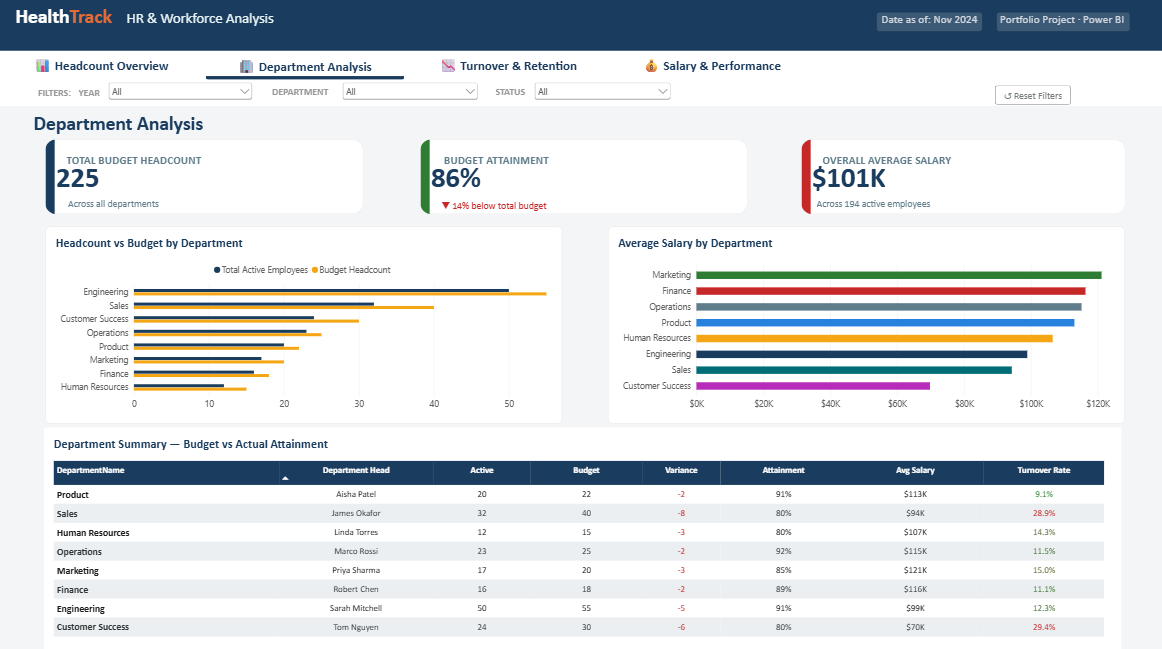

The dashboard page shown, as its layout file describes it:
{"tool":"powerbi","page":{"name":"🏢 Department Analysis","canvas":[1920,1080],"ordinal":1},"visuals":[{"type":"textbox","box":[32.5,17.8,345.9,47.7],"z":0,"group":"g16"},{"type":"shape","box":[0,92.5,1920,90],"z":0},{"type":"group","id":"g1","title":"Group 3","box":[132.6,140,974.9,44.5],"z":0,"group":"g15"},{"type":"group","id":"g2","title":"Group 1","box":[132.6,140.4,289.7,43.6],"z":0,"group":"g1"},{"type":"textbox","box":[214.6,24.6,410.4,43.2],"z":1000,"group":"g16"},{"type":"slicer","fields":{"Values":["DimEmployee.EmploymentStatus"]},"box":[875.1,140,232.4,44.5],"z":1000,"group":"g5"},{"type":"slicer","fields":{"Values":["DimDate.Year"]},"box":[177.1,140.4,245.3,43.6],"z":1000,"group":"g2"},{"type":"group","id":"g3","title":"Group 2","box":[448.5,140.4,340.9,43.6],"z":1000,"group":"g1"},{"type":"slicer","fields":{"Values":["DimDepartment.DepartmentName"]},"box":[558.1,140.4,231.3,43.6],"z":1000,"group":"g3"},{"type":"textbox","box":[67.5,152.3,82,40.2],"z":1000,"group":"g15"},{"type":"group","id":"g4","title":"Group 6","box":[695,237.5,552.5,122.5],"z":1000},{"type":"group","id":"g5","title":"Group 2","box":[815.6,140,291.9,44.5],"z":2000,"group":"g1"},{"type":"textbox","box":[62.5,192.5,322.5,42.5],"z":2000},{"type":"textbox","box":[815.6,149.6,108,32.7],"z":3000,"group":"g5"},{"type":"textbox","box":[448.5,150,108,32.7],"z":3000,"group":"g3"},{"type":"textbox","box":[132.6,152.8,55.3,31.1],"z":3000,"group":"g2"},{"type":"group","id":"g6","title":"Group 9","box":[80,237.5,545,122.5],"z":3000},{"type":"shape","box":[0,7.5,1920,85],"z":4000},{"type":"group","id":"g7","title":"Group 7","box":[80,237.5,520.8,122.5],"z":4000,"group":"g11"},{"type":"group","id":"g8","title":"Group 7","box":[695,237.5,535.6,122.5],"z":4000,"group":"g12"},{"type":"group","id":"g9","title":"Group 7","box":[1317.5,237.5,530,122.5],"z":4000,"group":"g14"},{"type":"group","id":"g10","title":"Group 9","box":[1317.5,237.5,530,122.5],"z":5000},{"type":"textbox","box":[114.2,258.5,478.3,97],"z":5000,"group":"g11"},{"type":"textbox","box":[730.1,258.5,491.9,97],"z":5000,"group":"g12"},{"type":"textbox","box":[1352.3,258.5,486.7,97],"z":5000,"group":"g14"},{"type":"group","id":"g11","title":"Group 8","box":[80,237.5,520.8,122.5],"z":5001,"group":"g6"},{"type":"group","id":"g12","title":"Group 8","box":[695,237.5,535.6,122.5],"z":5001,"group":"g13"},{"type":"group","id":"g13","title":"Group 9","box":[695,237.5,552.5,122.5],"z":5001,"group":"g4"},{"type":"group","id":"g14","title":"Group 8","box":[1317.5,237.5,530,122.5],"z":5001,"group":"g10"},{"type":"group","id":"g15","title":"Group 4","box":[67.5,140,1040,52.5],"z":6000},{"type":"cardVisual","fields":{"Data":["Measure.Budget Headcount"]},"box":[80,237.5,520.8,122.5],"z":6000,"group":"g7"},{"type":"cardVisual","fields":{"Data":["Measure.Headcount Attainment %"]},"box":[695,237.5,535.6,122.5],"z":6000,"group":"g8"},{"type":"cardVisual","fields":{"Data":["Measure.Avg Salary"]},"box":[1317.5,237.5,530,122.5],"z":6000,"group":"g9"},{"type":"textbox","box":[1342.7,332.3,402.8,21.5],"z":6000,"group":"g10"},{"type":"textbox","box":[115.9,333.1,509.5,21.5],"z":6000,"group":"g6"},{"type":"textbox","box":[729.1,333.7,518.4,21.7],"z":6000,"group":"g13"},{"type":"group","id":"g16","title":"Group 5","box":[32.5,17.8,592.5,50],"z":7000},{"type":"clusteredBarChart","title":"Headcount vs Budget by Department","fields":{"Category":["DimDepartment.DepartmentName"],"Y":["Measure.Total Active Employees","Measure.Budget Headcount"]},"box":[80,380,845,322.5],"z":8000},{"type":"pageNavigator","box":[10,92.5,1325,47.5],"z":9000},{"type":"textbox","box":[1636.2,30,218.9,32.1],"z":10000,"group":"g17"},{"type":"actionButton","title":"Reset Filters","box":[1635,150,124.3,31.4],"z":10000},{"type":"textbox","box":[1440,30,173.6,32.1],"z":11000,"group":"g17"},{"type":"group","id":"g17","title":"Group 11","box":[1440,30,415,32.5],"z":11000},{"type":"clusteredBarChart","title":"Average Salary by Department","fields":{"Category":["DimDepartment.DepartmentName"],"Y":["Measure.Avg Salary"]},"box":[1002.5,380,845,322.5],"z":12000},{"type":"pivotTable","title":"Department Summary — Budget vs Actual Attainment","fields":{"Rows":["DimDepartment.DepartmentName"],"Values":["Min(DimDepartment.DepartmentHead)","Measure.Total Active Employees","Measure.Budget Headcount","Measure.Headcount Variance","Measure.Headcount Attainment %","Measure.Avg Salary","Measure.Dept Turnover %"]},"box":[77.5,710,1762.5,370],"z":13000}]}

Visuals, with their boxes in screenshot pixels (x1, y1, x2, y2), scaled from the page's 1920x1080 canvas onto the 1162x649 screenshot:
textbox: BBox(20, 11, 229, 39)
shape: BBox(0, 56, 1161, 110)
"Group 3" group: BBox(80, 84, 670, 111)
"Group 1" group: BBox(80, 84, 256, 111)
textbox: BBox(130, 15, 378, 41)
slicer - DimEmployee.EmploymentStatus: BBox(530, 84, 670, 111)
slicer - DimDate.Year: BBox(107, 84, 256, 111)
"Group 2" group: BBox(271, 84, 478, 111)
slicer - DimDepartment.DepartmentName: BBox(338, 84, 478, 111)
textbox: BBox(41, 92, 90, 116)
"Group 6" group: BBox(421, 143, 755, 216)
"Group 2" group: BBox(494, 84, 670, 111)
textbox: BBox(38, 116, 233, 141)
textbox: BBox(494, 90, 559, 110)
textbox: BBox(271, 90, 337, 110)
textbox: BBox(80, 92, 114, 111)
"Group 9" group: BBox(48, 143, 378, 216)
shape: BBox(0, 5, 1161, 56)
"Group 7" group: BBox(48, 143, 364, 216)
"Group 7" group: BBox(421, 143, 745, 216)
"Group 7" group: BBox(797, 143, 1118, 216)
"Group 9" group: BBox(797, 143, 1118, 216)
textbox: BBox(69, 155, 359, 214)
textbox: BBox(442, 155, 740, 214)
textbox: BBox(818, 155, 1113, 214)
"Group 8" group: BBox(48, 143, 364, 216)
"Group 8" group: BBox(421, 143, 745, 216)
"Group 9" group: BBox(421, 143, 755, 216)
"Group 8" group: BBox(797, 143, 1118, 216)
"Group 4" group: BBox(41, 84, 670, 116)
cardVisual - Measure.Budget Headcount: BBox(48, 143, 364, 216)
cardVisual - Measure.Headcount Attainment %: BBox(421, 143, 745, 216)
cardVisual - Measure.Avg Salary: BBox(797, 143, 1118, 216)
textbox: BBox(813, 200, 1056, 213)
textbox: BBox(70, 200, 378, 213)
textbox: BBox(441, 201, 755, 214)
"Group 5" group: BBox(20, 11, 378, 41)
"Headcount vs Budget by Department" clusteredBarChart: BBox(48, 228, 560, 422)
pageNavigator: BBox(6, 56, 808, 84)
textbox: BBox(990, 18, 1123, 37)
"Reset Filters" actionButton: BBox(990, 90, 1065, 109)
textbox: BBox(872, 18, 977, 37)
"Group 11" group: BBox(872, 18, 1123, 38)
"Average Salary by Department" clusteredBarChart: BBox(607, 228, 1118, 422)
"Department Summary — Budget vs Actual Attainment" pivotTable: BBox(47, 427, 1114, 648)
